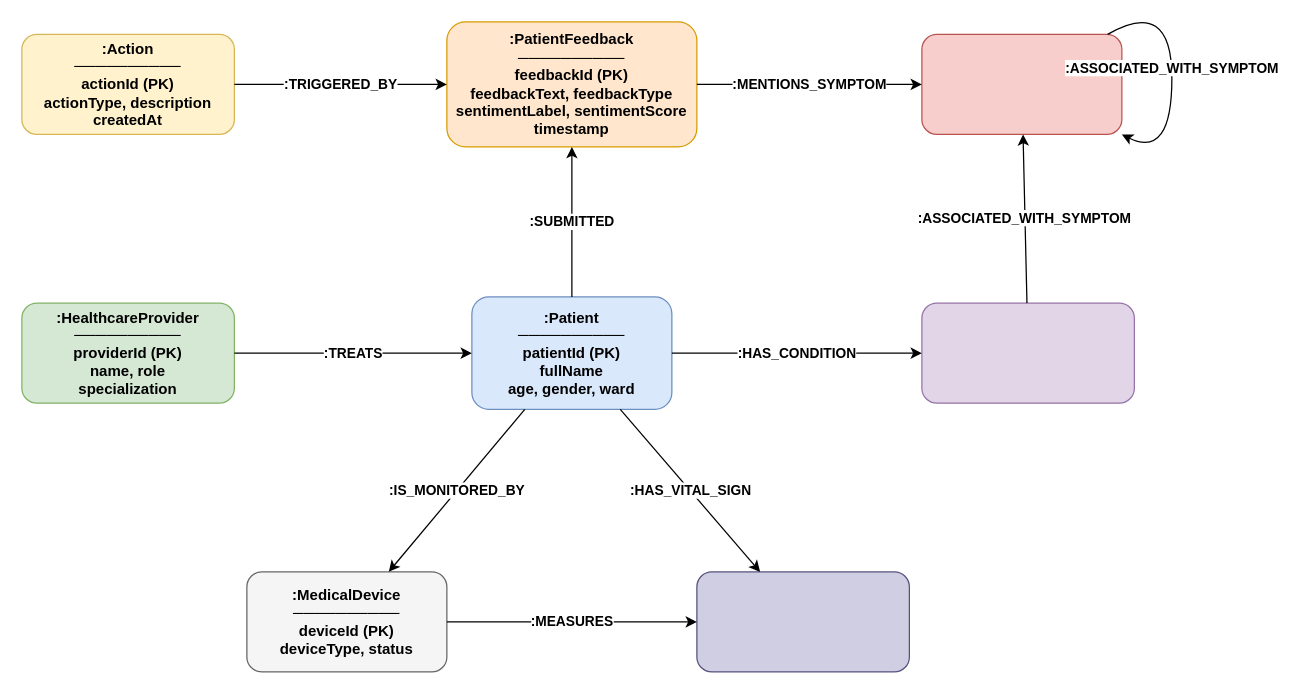
The diagram is 1300 pixels wide and 694 high, and some of its shapes have lost their labels. The shapes that lost their labels are listed below. From the top down, each one's box as (x1, y1, x2, y2) in pixels, then its label:
(921, 33, 1122, 134): :Symptom ────────── symptomId (PK) name, category severity
(921, 302, 1134, 403): :MedicalCondition ────────── conditionId (PK) name, conditionType icdCode
(696, 571, 909, 672): :VitalSign ────────── vitalId (PK) vitalType, valueNumeric unit, measuredAt
